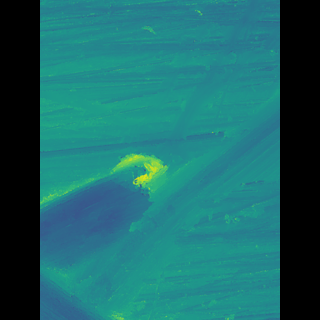Loch: (69, 93, 250, 319), (121, 145, 171, 206)
